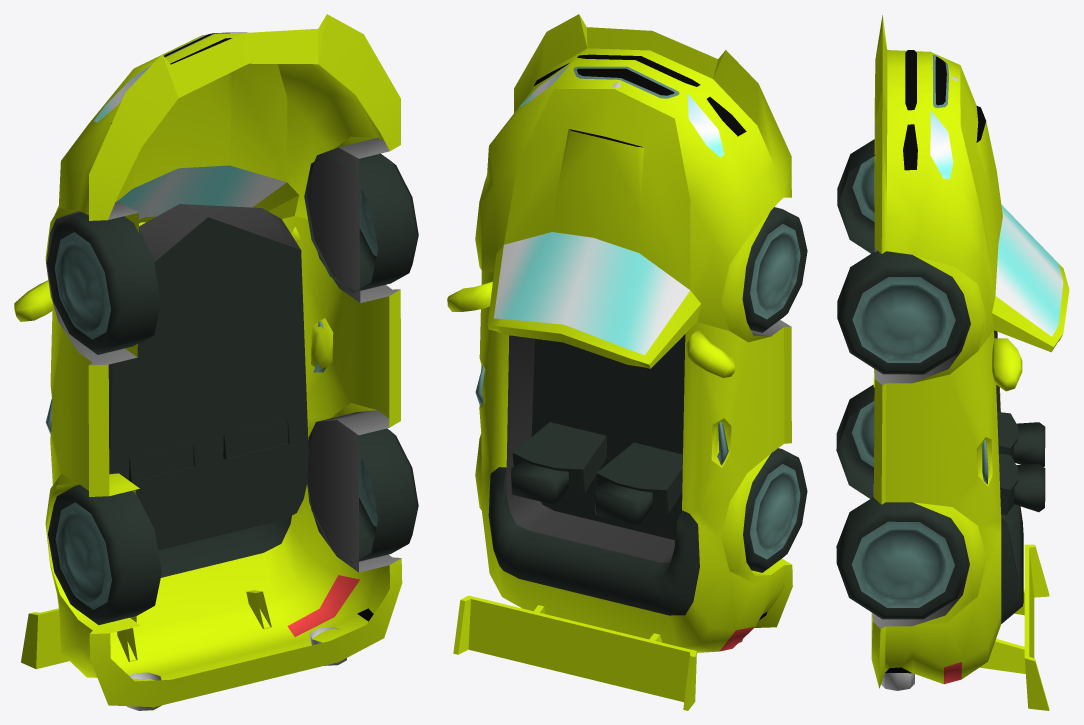
The model's file is car1.fbx.
3 renders of one model, left to right at view 1: azimuth 30°, elevation 25°; view 2: azimuth 150°, elevation 25°; view 3: azimuth 270°, elevation 25°, orthographic. The views are drawn at different scales.
Visible parts, largest first — view 1: Car1; view 2: Car1; view 3: Car1.
Boxes of the visible parts, <box> form: Car1: <box>14,14,418,710</box>; Car1: <box>447,14,807,710</box>; Car1: <box>836,15,1069,710</box>.
Bounding box in the file's own units: 98.89 × 68.32 × 195.
